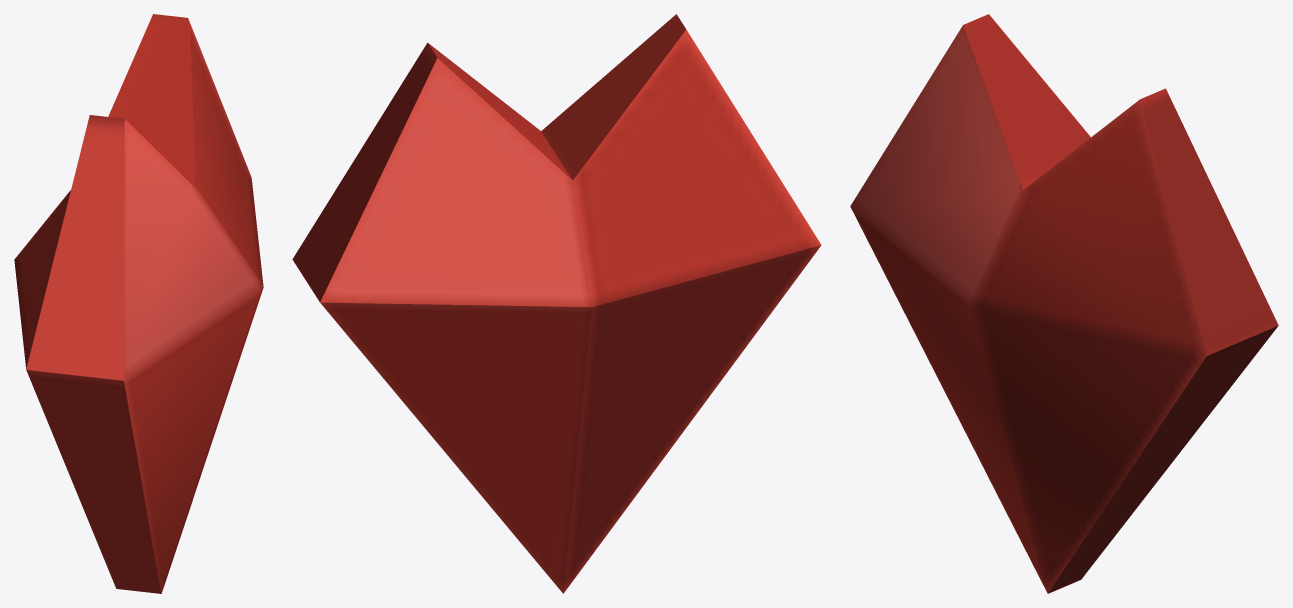
File: Heart.fbx
3 renders of one model, left to right at view 1: azimuth 30°, elevation 25°; view 2: azimuth 150°, elevation 25°; view 3: azimuth 270°, elevation 25°, orthographic. The views are drawn at different scales.
Visible parts, largest first — view 1: GameObject; view 2: GameObject; view 3: GameObject.
Part boxes in pixels (bbox=[...]): GameObject: bbox=[14, 14, 263, 593]; GameObject: bbox=[292, 14, 821, 593]; GameObject: bbox=[850, 14, 1278, 593].
Bounding box in the file's own units: 0.4286 × 0.5872 × 0.4301.
Materials: 1 (1 with a texture image).
